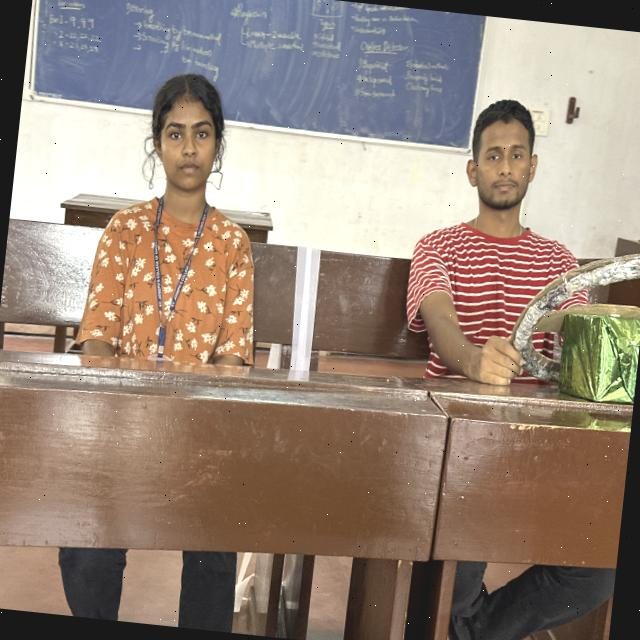Helmet: (400, 210, 596, 383), (82, 196, 266, 368)
